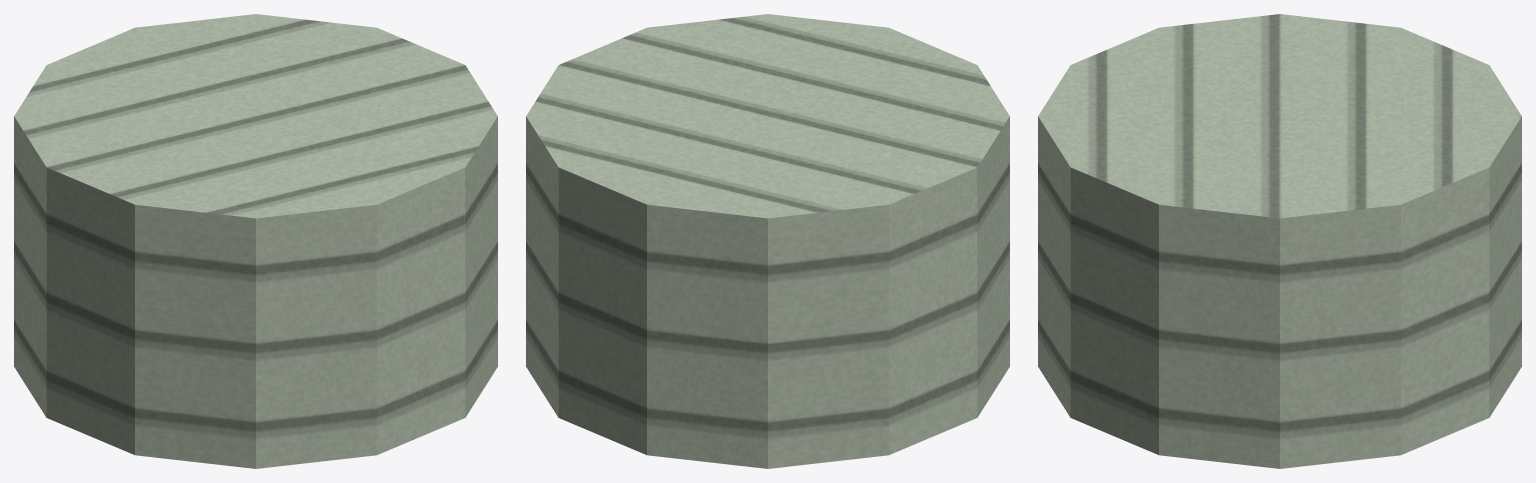
Rendered from coiled_fence_wire_post_stack.glb.
The picture shows the model from 3 angles, left to right: view 1: azimuth 30°, elevation 25°; view 2: azimuth 150°, elevation 25°; view 3: azimuth 270°, elevation 25°; orthographic projection.
Parts seen in each view (by area): view 1: coiled_fence_wire_post_stack-col; view 2: coiled_fence_wire_post_stack-col; view 3: coiled_fence_wire_post_stack-col.
Boxes of the visible parts, x1,y1,x2,y2 form: coiled_fence_wire_post_stack-col: (14,14,497,468); coiled_fence_wire_post_stack-col: (526,14,1009,468); coiled_fence_wire_post_stack-col: (1038,14,1521,468).
Size of the model in its own units: 0.7 by 0.4 by 0.7.
1 material, 1 textured.
